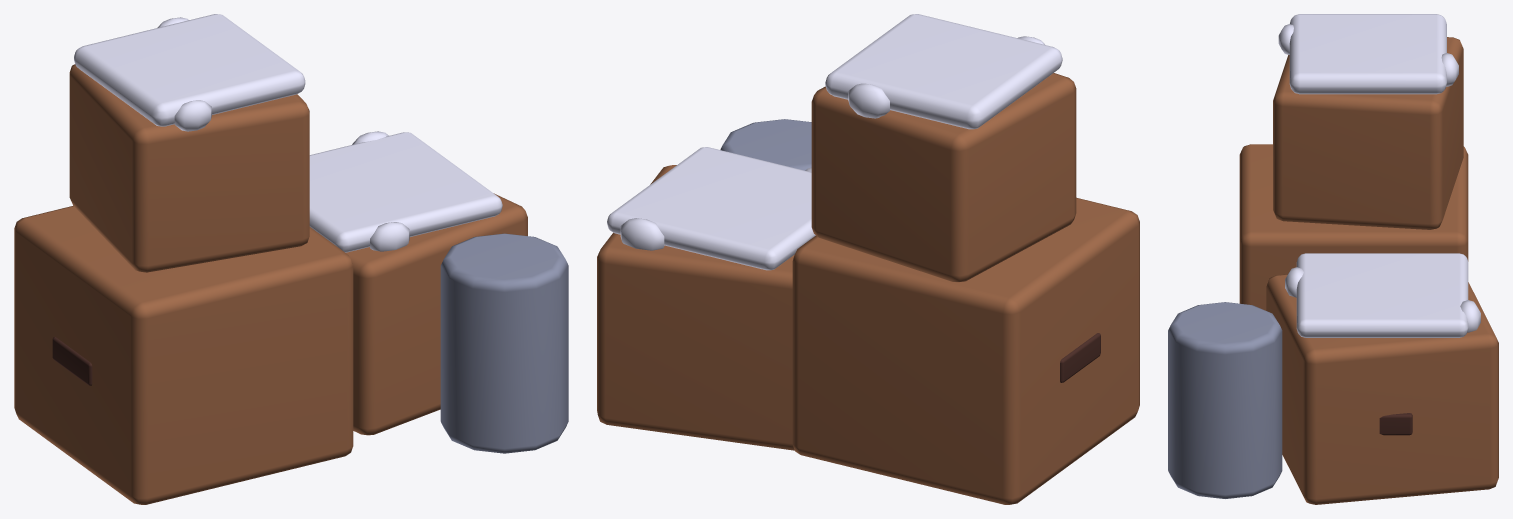
The model's file is frost_crates.glb.
3 views of the same model, side by side, from view 1: azimuth 30°, elevation 25°; view 2: azimuth 150°, elevation 25°; view 3: azimuth 270°, elevation 25° (orthographic). The views are drawn at different scales.
Parts seen in each view (by area): view 1: Crates; view 2: Crates; view 3: Crates.
Boxes of the visible parts, x1,y1,x2,y2 form: Crates: [14, 14, 568, 504]; Crates: [597, 14, 1139, 504]; Crates: [1168, 14, 1498, 504].
Bounding box in the file's own units: 1.57 × 1.28 × 1.16.
